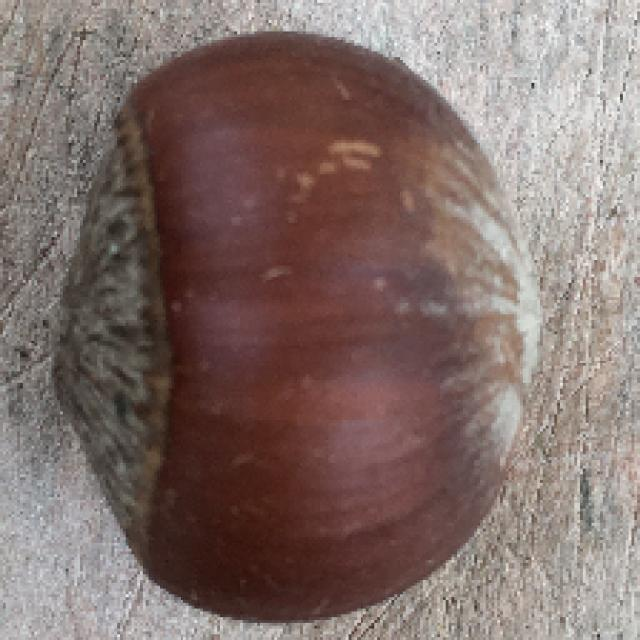qualityHazelnut: (59, 20, 542, 626)
